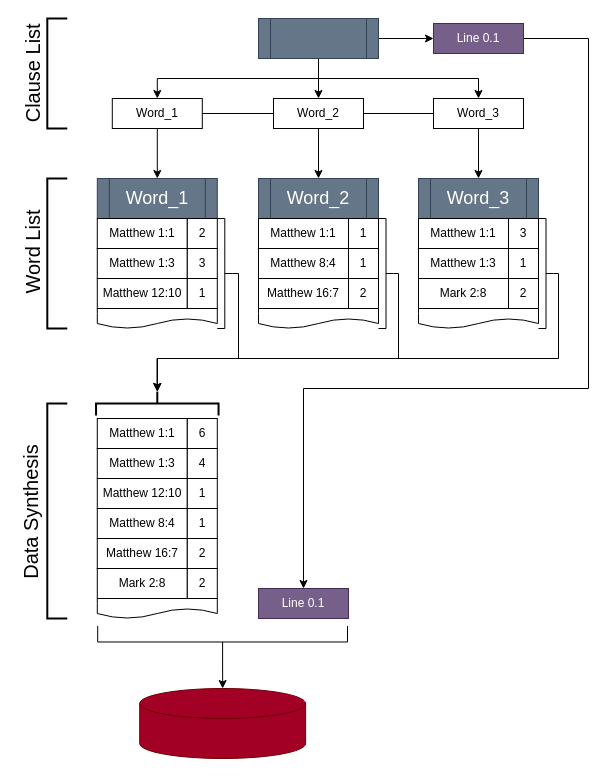
The diagram is 614 pixels wide and 776 high, and some of its shapes have lost their labels. The shapes that lost their labels are listed below. From the top down, each one's box as (x1, y1, x2, y2) in pixels, then its label:
(258, 18, 378, 58): Clause_1
(139, 688, 306, 758): prob_analysis_raw.pkl
